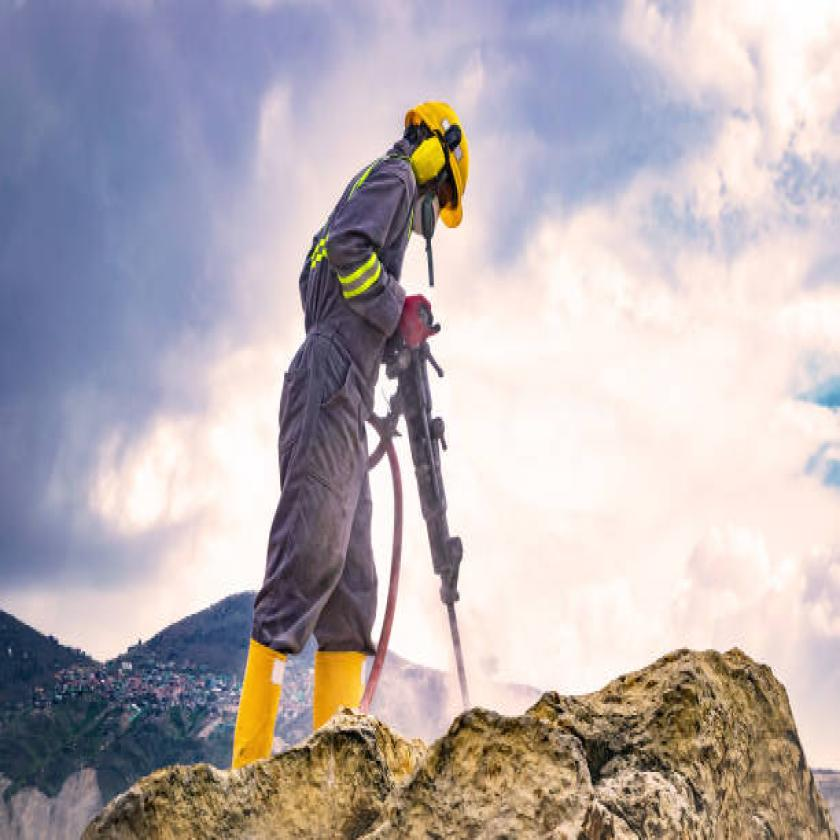Con_casco: (404, 91, 474, 257)
